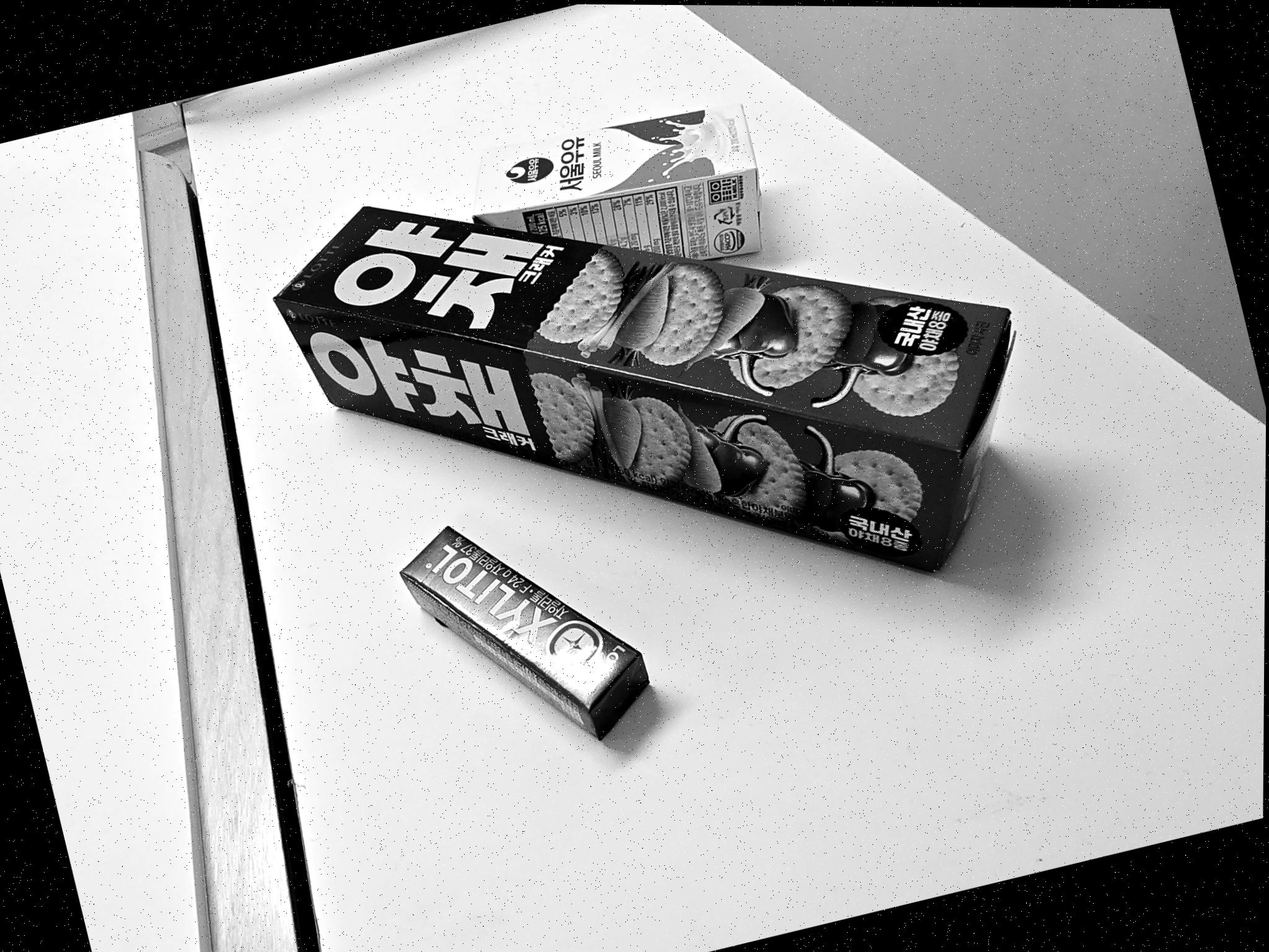cracker_vege: (273, 205, 1011, 574)
gum_green: (401, 527, 648, 739)
milk_green: (473, 103, 761, 260)
